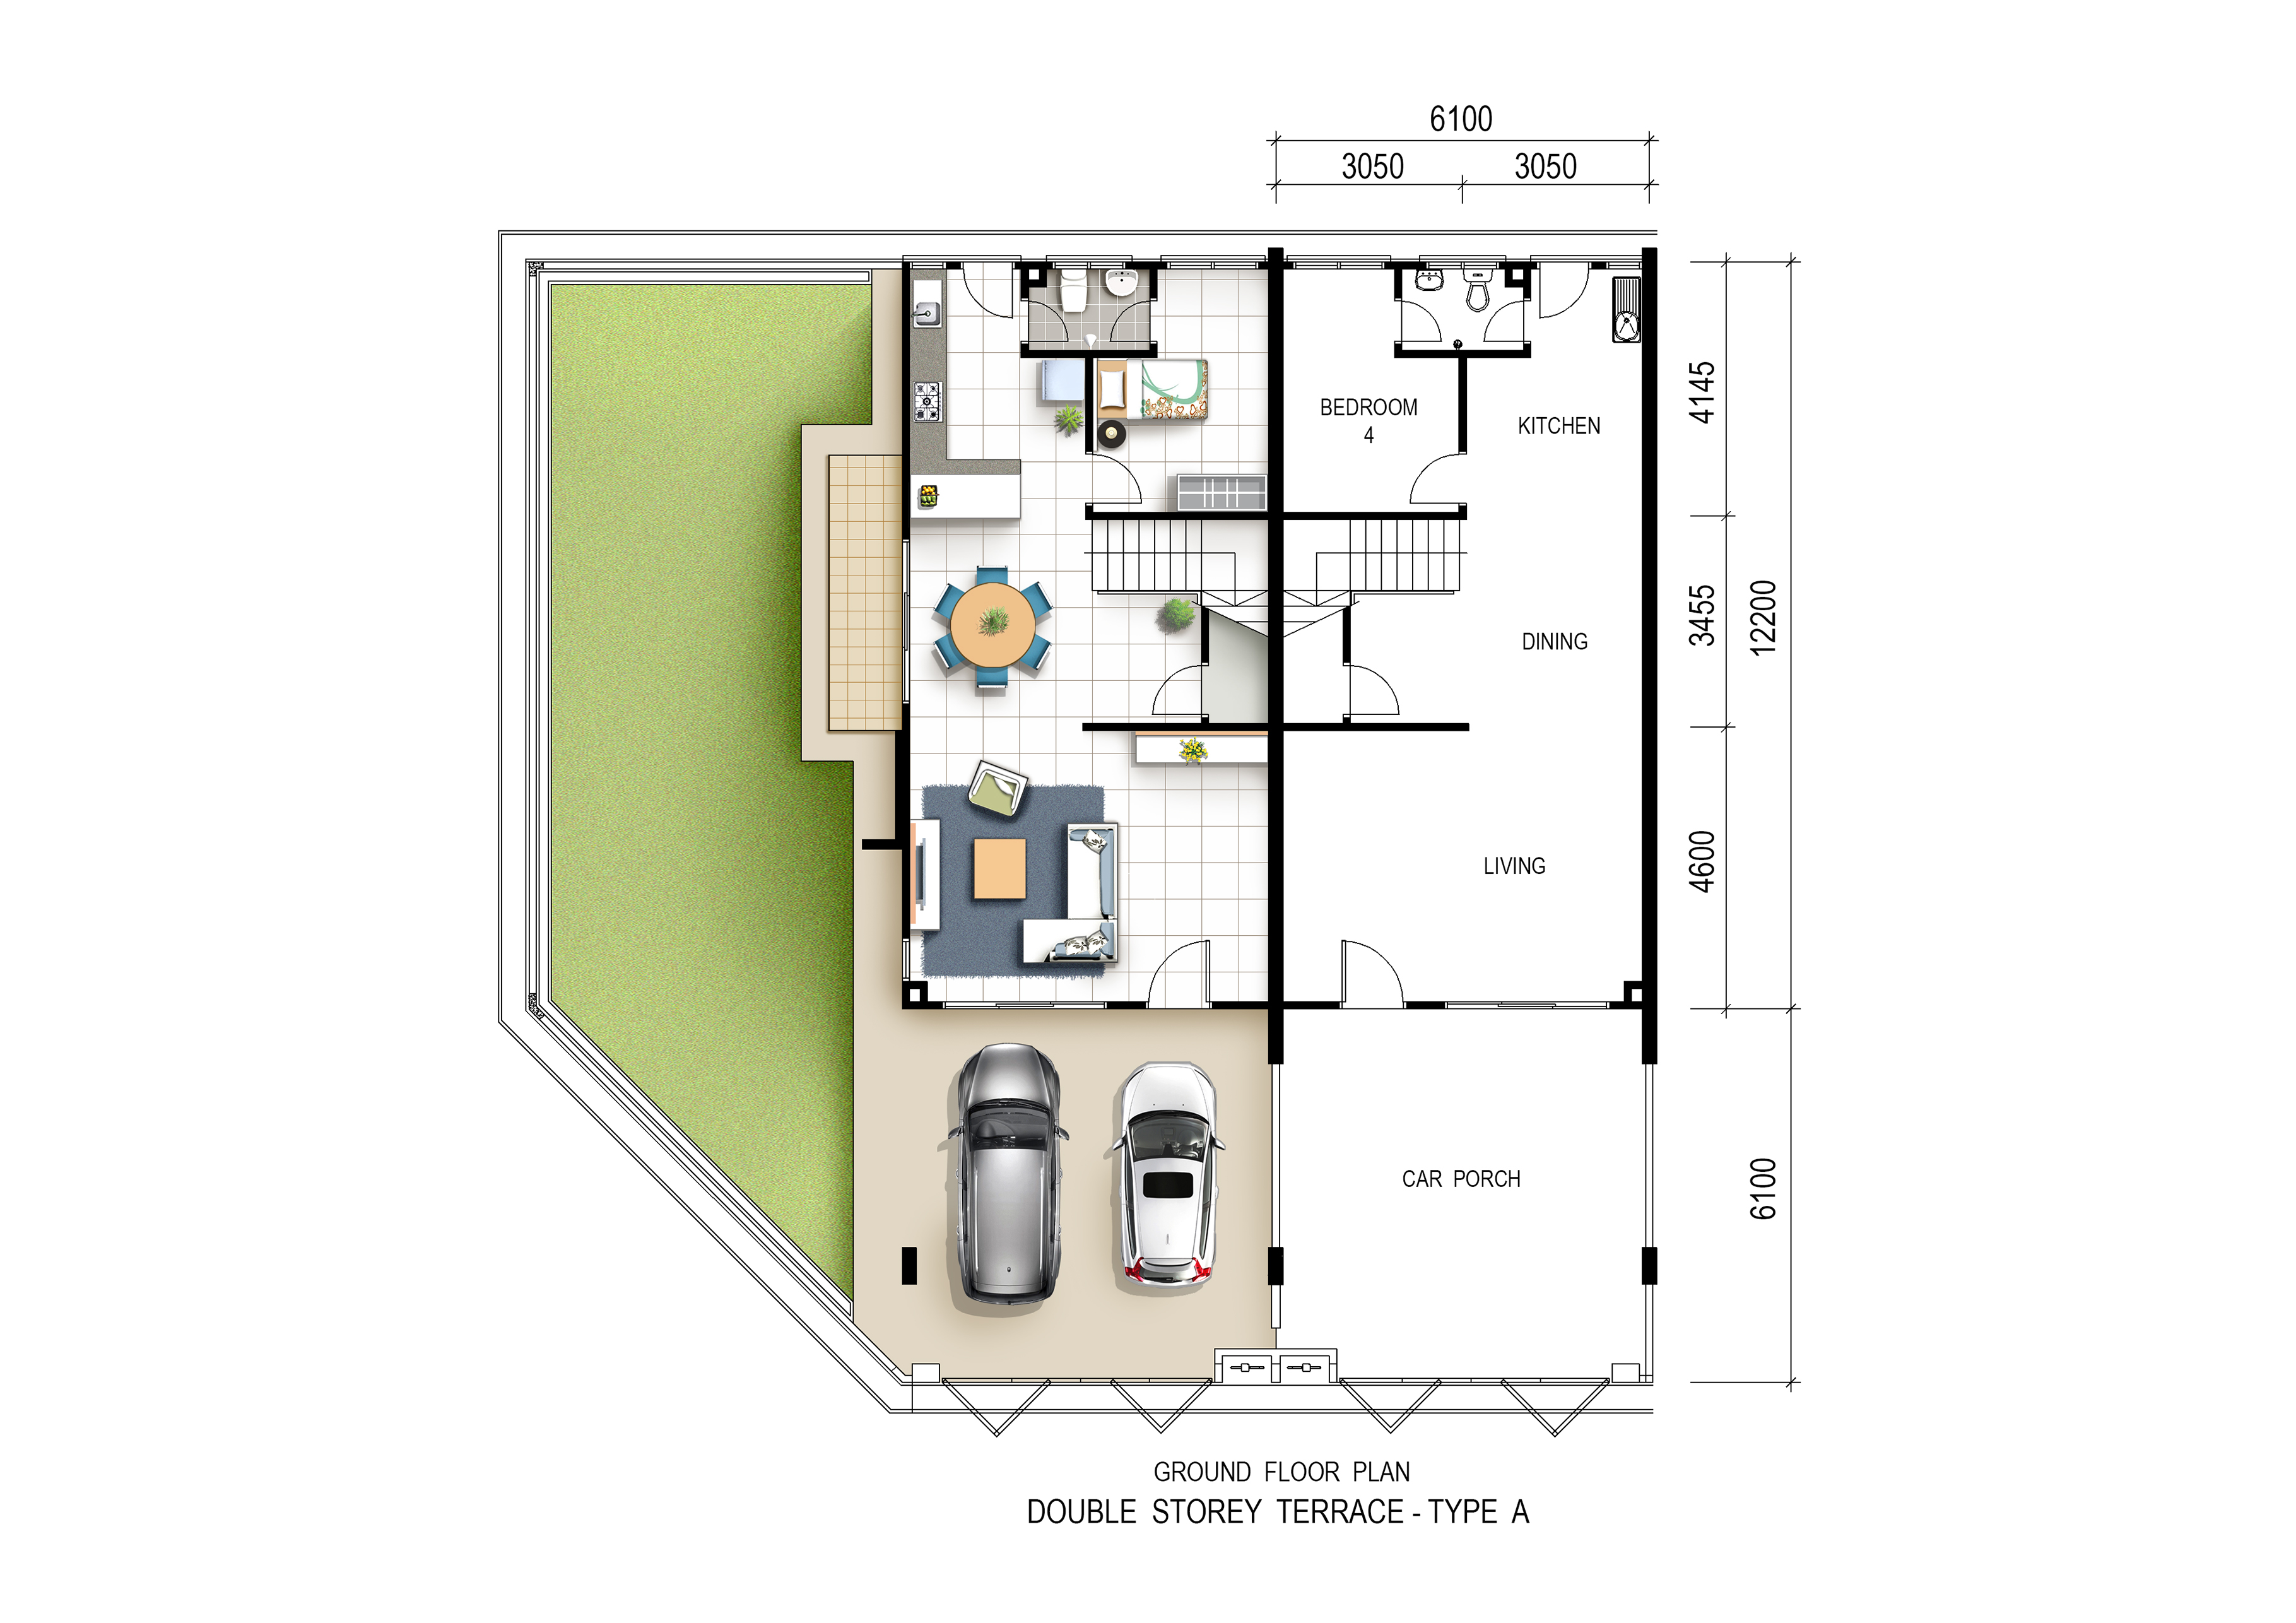window: (1164, 255, 1259, 270), (1290, 255, 1388, 269), (1418, 255, 1504, 270), (1050, 255, 1129, 270)
